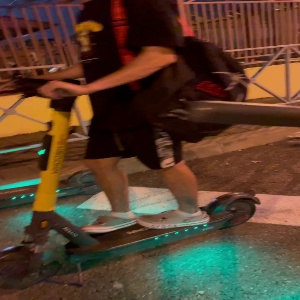human on a scooter: (1, 1, 259, 288)
